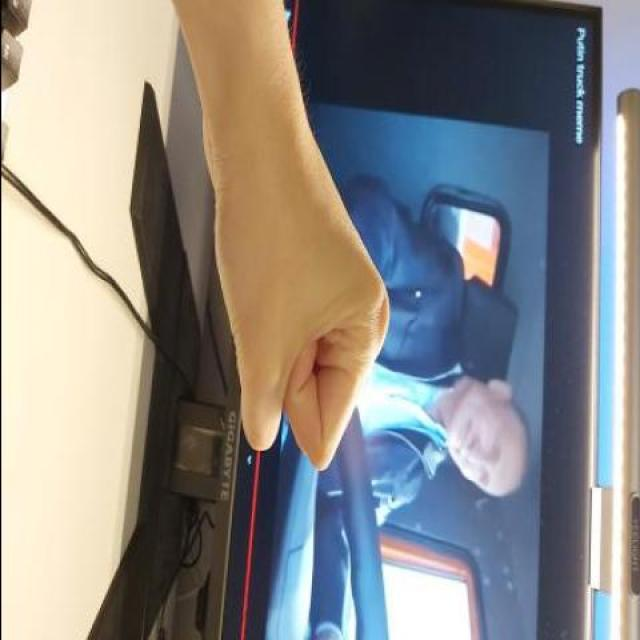Closed Hand: (205, 139, 398, 476)
